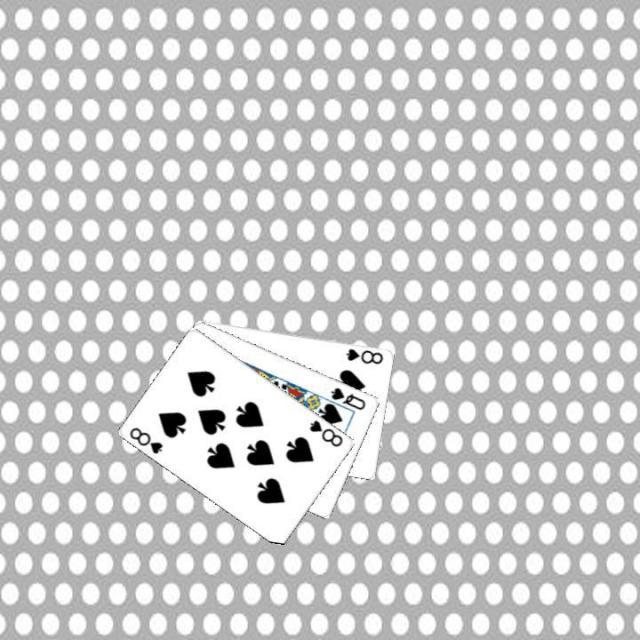8S: (126, 423, 166, 456), (306, 416, 345, 449), (342, 344, 384, 366)
QS: (327, 383, 368, 411)
